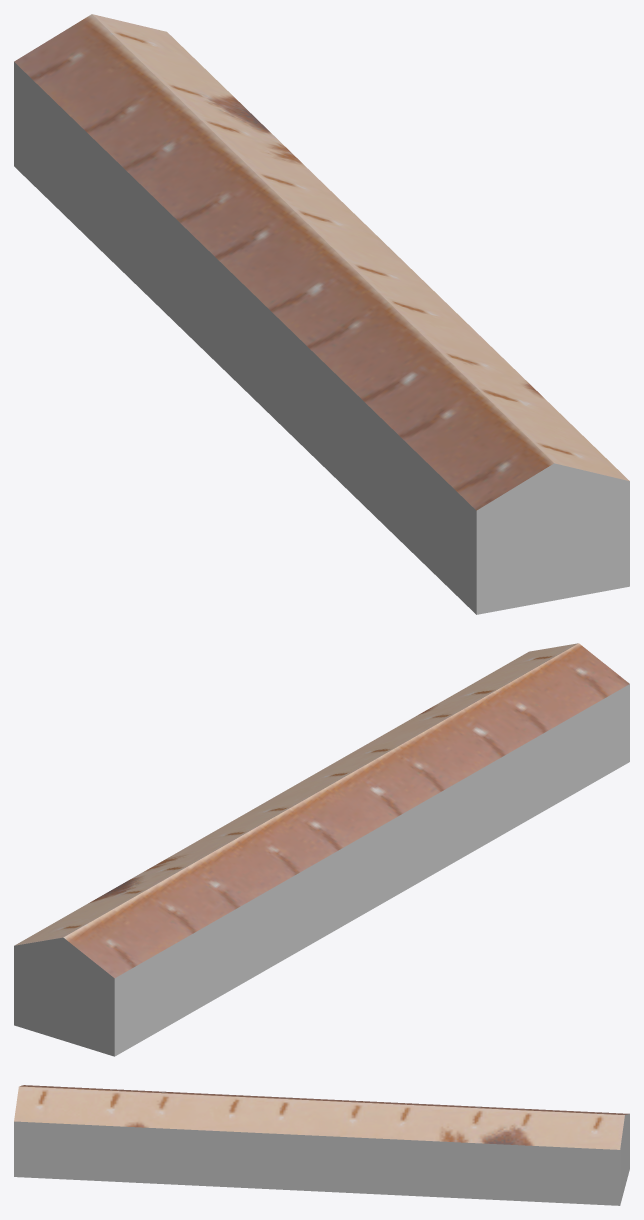
Rendered from DEBW_0010007Txal.gltf.
3 renders of one model, top to bottom at view 1: azimuth 30°, elevation 25°; view 2: azimuth 150°, elevation 25°; view 3: azimuth 270°, elevation 25°, orthographic. The views are drawn at different scales.
Visible parts, largest first — view 1: Z_UP; view 2: Z_UP; view 3: Z_UP.
Boxes of the visible parts, x1=… form: Z_UP: x1=14, y1=14, x2=629, y2=614; Z_UP: x1=14, y1=643, x2=629, y2=1056; Z_UP: x1=14, y1=1085, x2=629, y2=1205.
Size of the model in its own units: 16.06 by 8.25 by 63.4.
2 materials, 1 textured.
